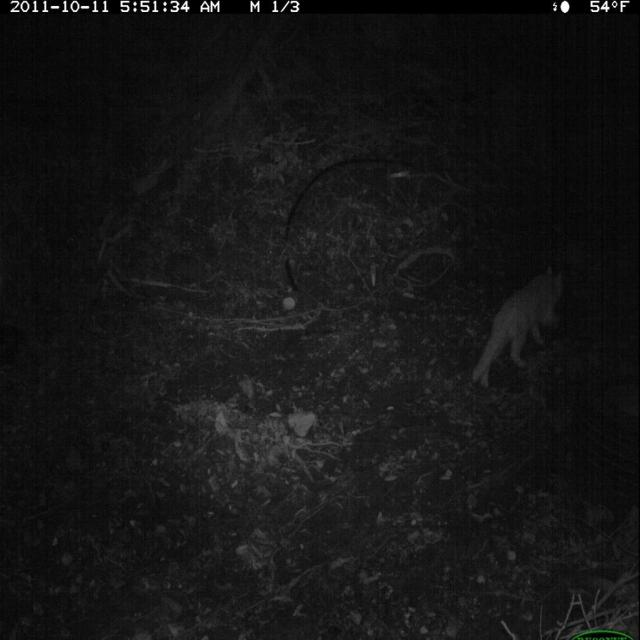cat: (465, 254, 576, 393)
